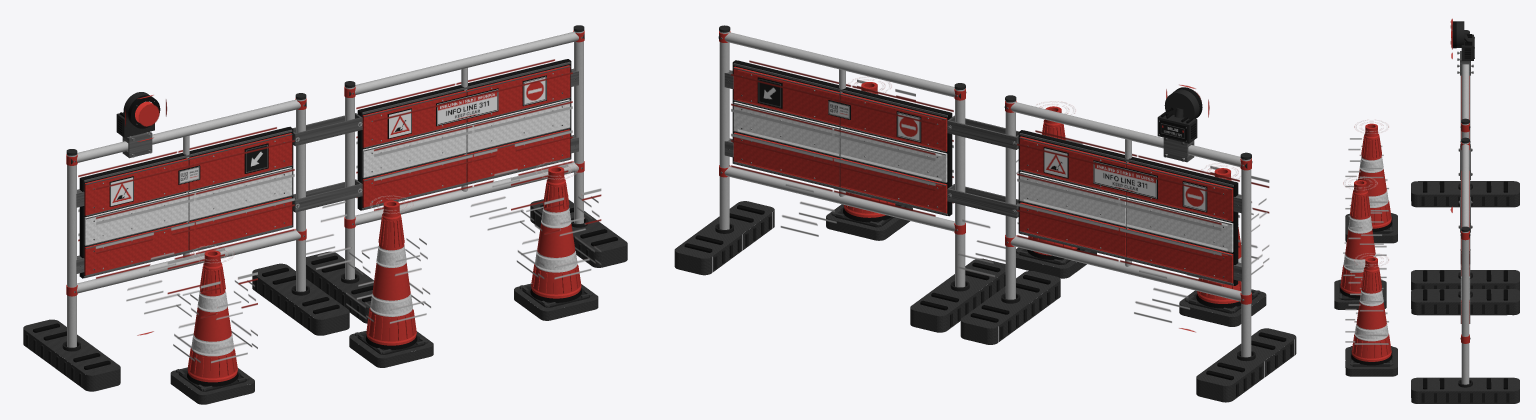
File: roadworks-B0FCTHlO.glb
The picture shows the model from 3 angles, left to right: view 1: azimuth 30°, elevation 25°; view 2: azimuth 150°, elevation 25°; view 3: azimuth 270°, elevation 25°; orthographic projection. The views are drawn at different scales.
Parts seen in each view (by area): view 1: body, farBaked, glow; view 2: body, farBaked, glow; view 3: body, farBaked, glow.
Boxes of the visible parts, bbox=[...] form: body: bbox=[23, 25, 627, 404]; farBaked: bbox=[78, 59, 601, 363]; glow: bbox=[90, 68, 577, 355]; body: bbox=[674, 25, 1296, 402]; farBaked: bbox=[731, 60, 1269, 332]; glow: bbox=[737, 69, 1241, 281]; body: bbox=[1334, 21, 1519, 403]; farBaked: bbox=[1343, 18, 1452, 344]; glow: bbox=[1343, 27, 1452, 340].
Size of the model in its own units: 2.7 by 1.2 by 1.
Materials: 3 (3 with a texture image).
